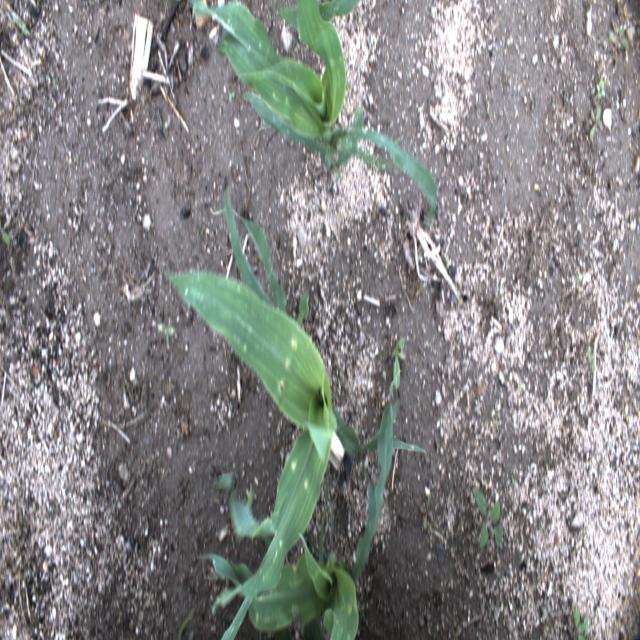crop: (160, 266, 427, 639), (191, 0, 438, 244), (204, 179, 309, 332), (252, 524, 357, 636)
weed: (473, 477, 504, 551), (570, 600, 595, 639), (391, 332, 405, 390), (590, 100, 603, 142), (0, 203, 11, 245)
